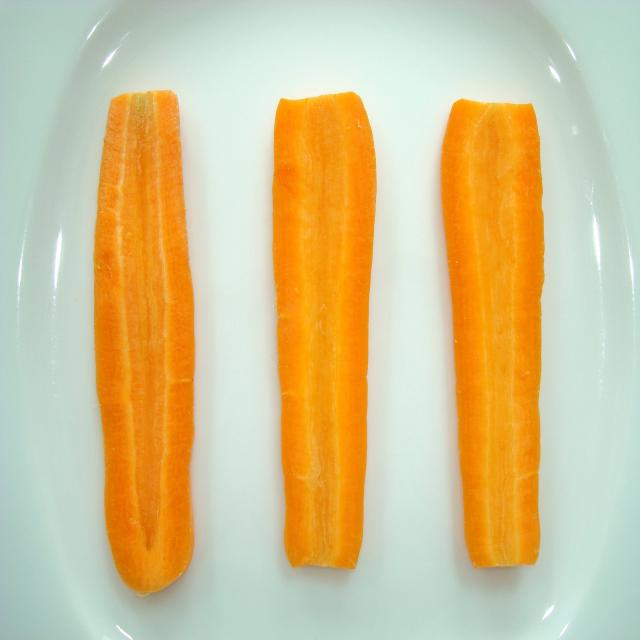carrot: (93, 91, 196, 597), (272, 92, 378, 574), (440, 100, 546, 572)
